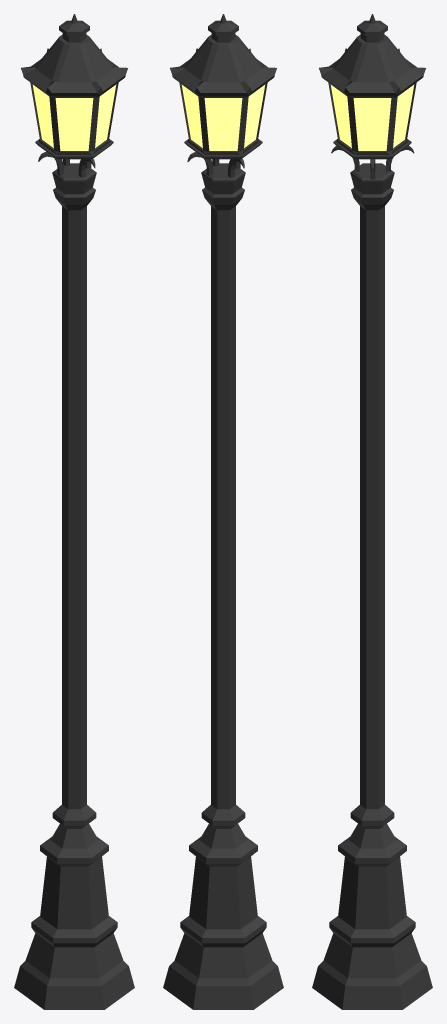
File: StreetLight.fbx
3 views of the same model, side by side, from view 1: azimuth 30°, elevation 25°; view 2: azimuth 210°, elevation 25°; view 3: azimuth 270°, elevation 25° (orthographic).
Parts seen in each view (by area): view 1: fonar; view 2: fonar; view 3: fonar.
Boxes of the visible parts, x1,y1,x2,y2 form: fonar: [14, 14, 134, 1009]; fonar: [163, 14, 283, 1009]; fonar: [312, 14, 432, 1009].
Bounding box in the file's own units: 59.42 × 610 × 68.61.
